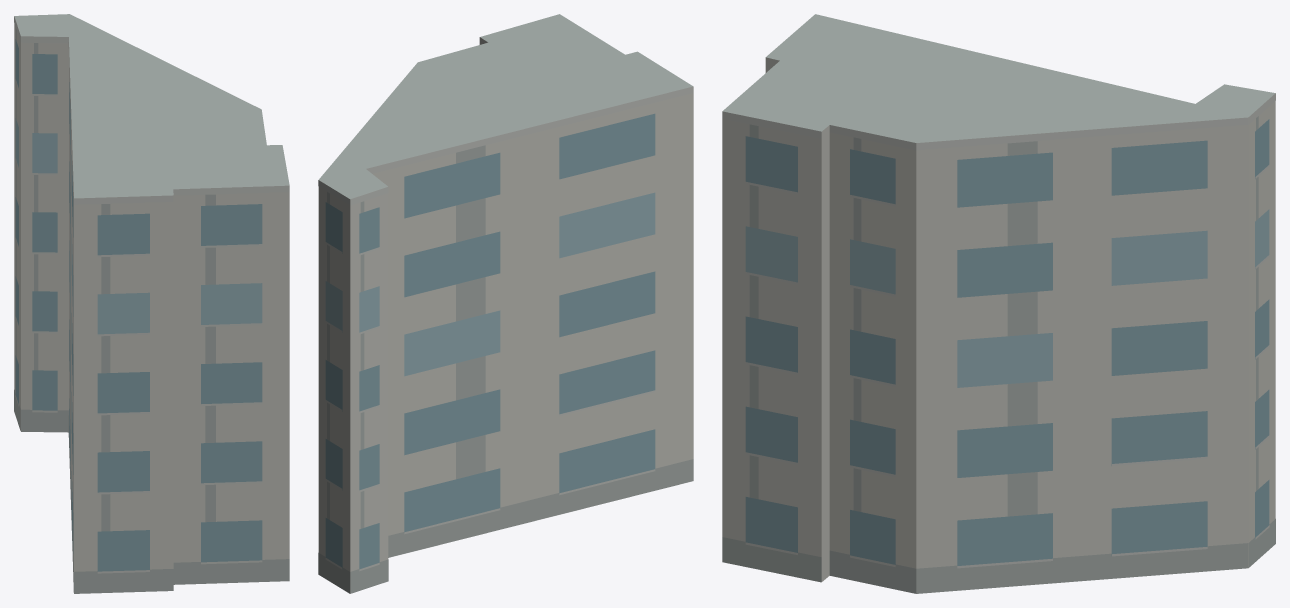
File: survey-upis-32486906.glb
3 views of the same model, side by side, from view 1: azimuth 30°, elevation 25°; view 2: azimuth 150°, elevation 25°; view 3: azimuth 270°, elevation 25° (orthographic). The views are drawn at different scales.
Visible parts, largest first — view 1: survey-upis-32486906.tmp; view 2: survey-upis-32486906.tmp; view 3: survey-upis-32486906.tmp.
Boxes of the visible parts, x1,y1,x2,y2 form: survey-upis-32486906.tmp: (14,14,289,593); survey-upis-32486906.tmp: (318,14,693,593); survey-upis-32486906.tmp: (722,14,1275,593).
Bounding box in the file's own units: 9.1 × 14.8 × 16.48.
